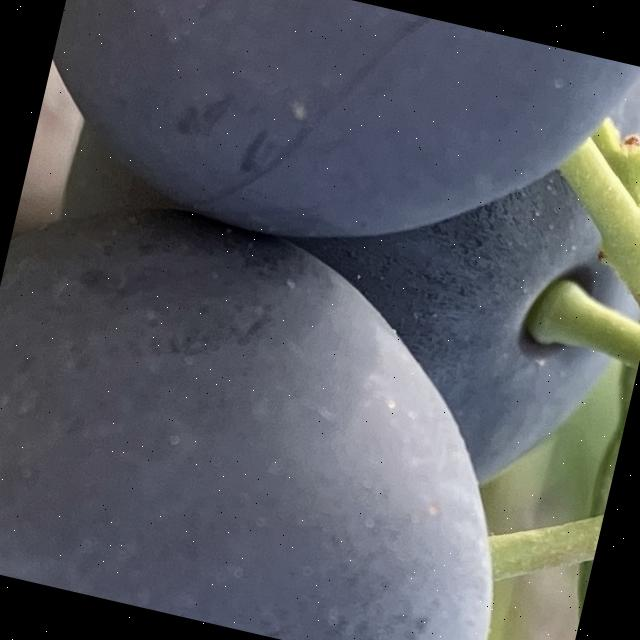Blueberries: (0, 179, 574, 640), (23, 0, 640, 322)
